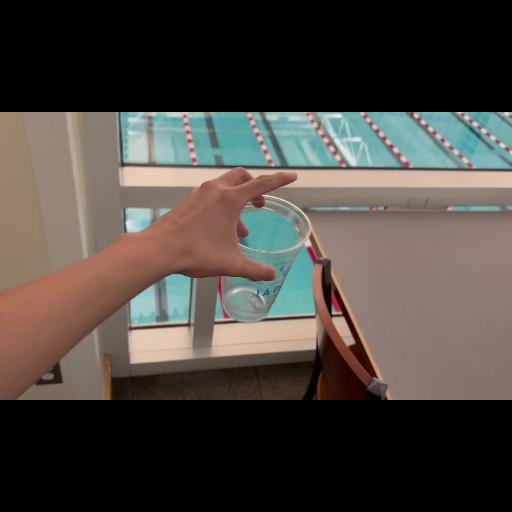lp_plastic_cup: (216, 192, 314, 324)
